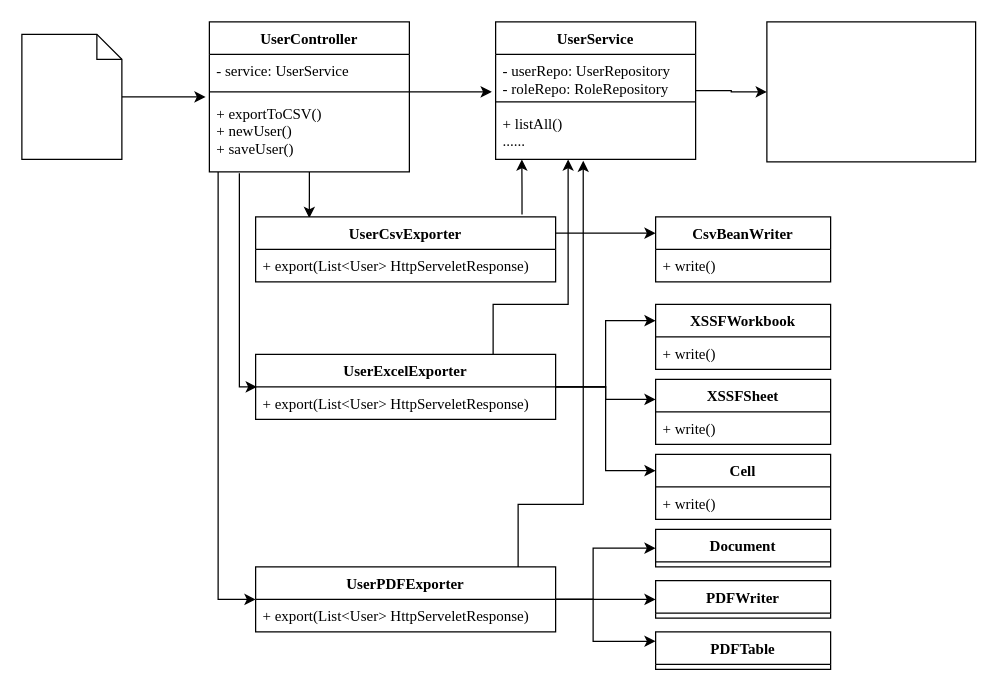
Some shapes in this 998 by 691 pixel diagram are drawn without their labels. The shapes that lost their labels are listed below. From the top down, each one's centre as x and y in pixels, then its label:
At [71,96]: "users.html".
At [871,91]: "<<Interface>> UserRepository + + findAll( ) + getUserByEmail(Email)".
